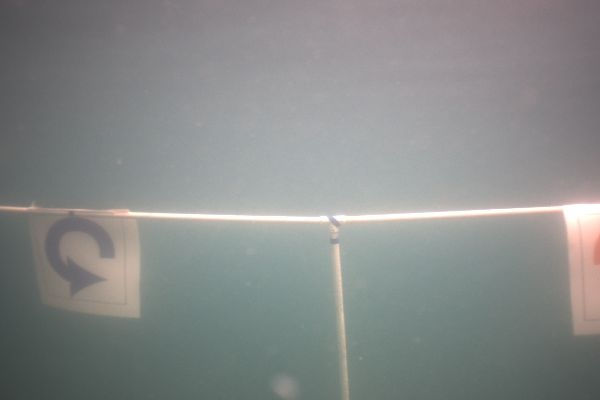gate: (0, 202, 600, 399)
gate_bleue: (32, 209, 140, 315)
gate_rouge: (562, 204, 600, 336)
